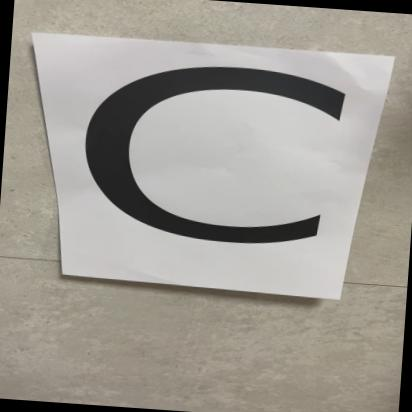seat: (36, 43, 358, 299)
